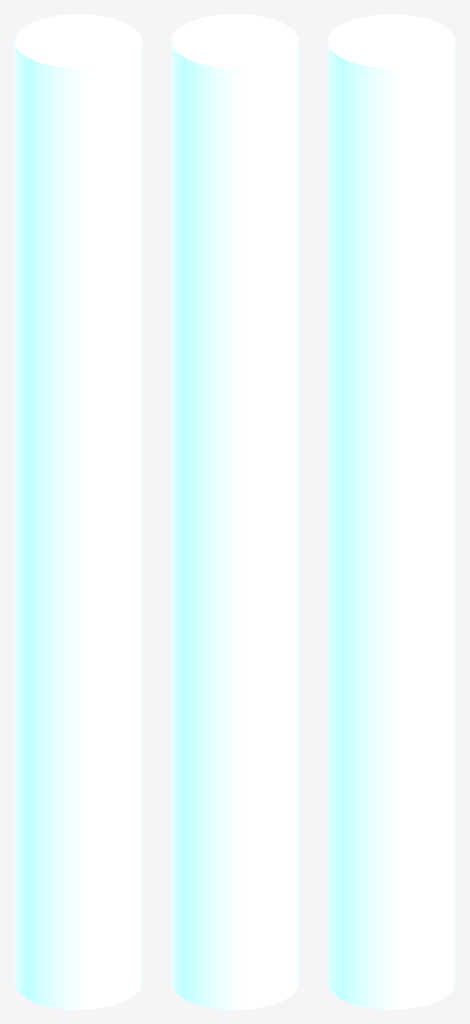
Rendered from pylone.gltf.
The picture shows the model from 3 angles, left to right: view 1: azimuth 90°, elevation 25°; view 2: azimuth 150°, elevation 25°; view 3: azimuth 270°, elevation 25°; orthographic projection.
Visible parts, largest first — view 1: polySurface90; view 2: polySurface90; view 3: polySurface90.
Boxes of the visible parts, <box> form: polySurface90: <box>14,14,142,1009</box>; polySurface90: <box>171,14,298,1009</box>; polySurface90: <box>327,14,455,1009</box>.
Bounding box in the file's own units: 0.0076 × 0.0615 × 0.0076.
